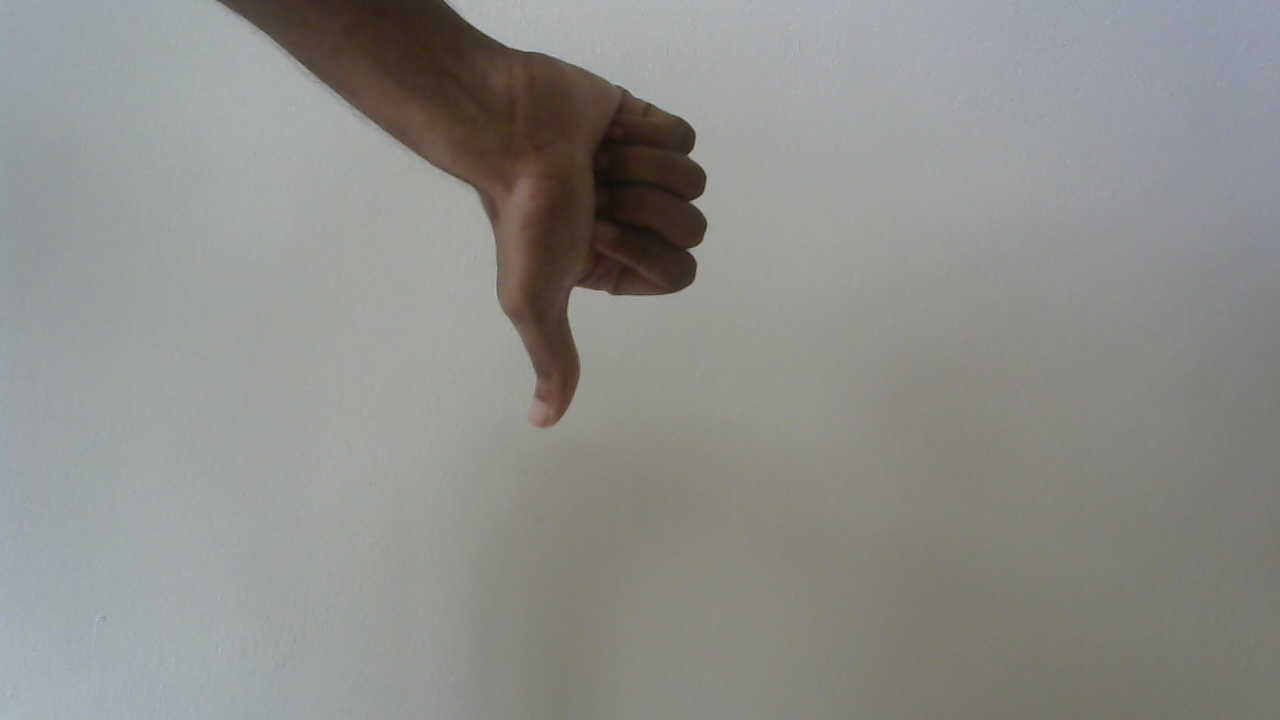thumbsdown: (479, 18, 731, 444)
